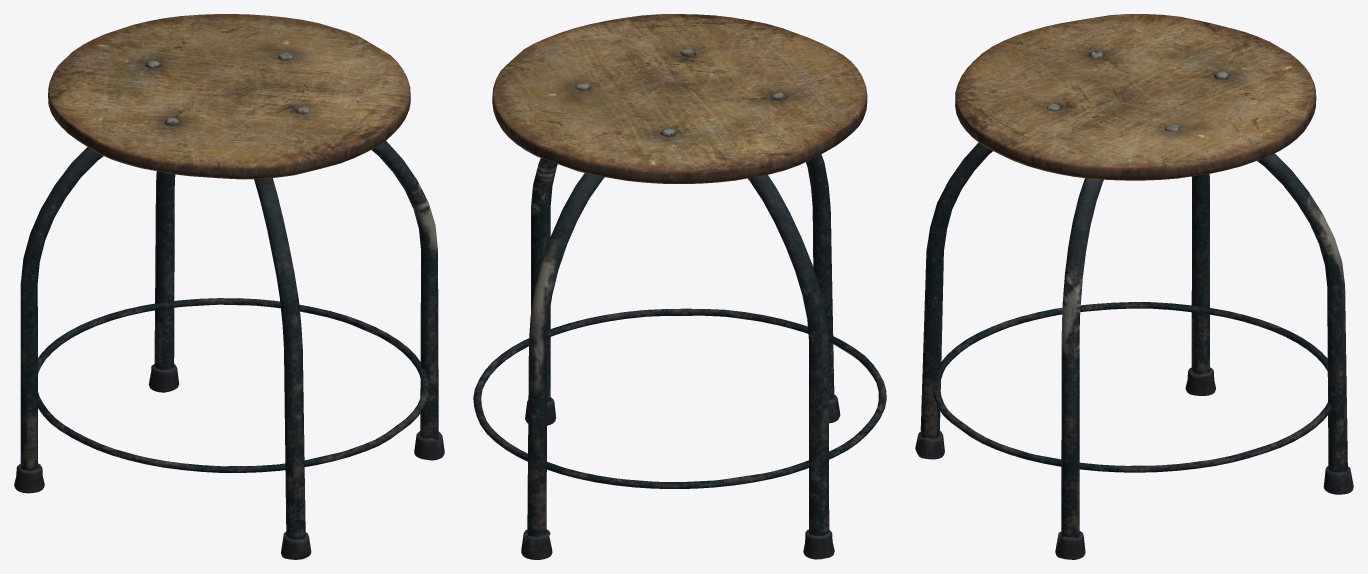
File: metal_stool_02.glb
The picture shows the model from 3 angles, left to right: view 1: azimuth 30°, elevation 25°; view 2: azimuth 150°, elevation 25°; view 3: azimuth 270°, elevation 25°; orthographic projection. The views are drawn at different scales.
Parts seen in each view (by area): view 1: metal_stool_02; view 2: metal_stool_02; view 3: metal_stool_02.
Boxes of the visible parts, x1,y1,x2,y2 form: metal_stool_02: (14,14,444,559); metal_stool_02: (473,14,886,559); metal_stool_02: (915,14,1353,559).
Size of the model in its own units: 0.4481 by 0.4579 by 0.4731.
Materials: 1 (1 with a texture image).
